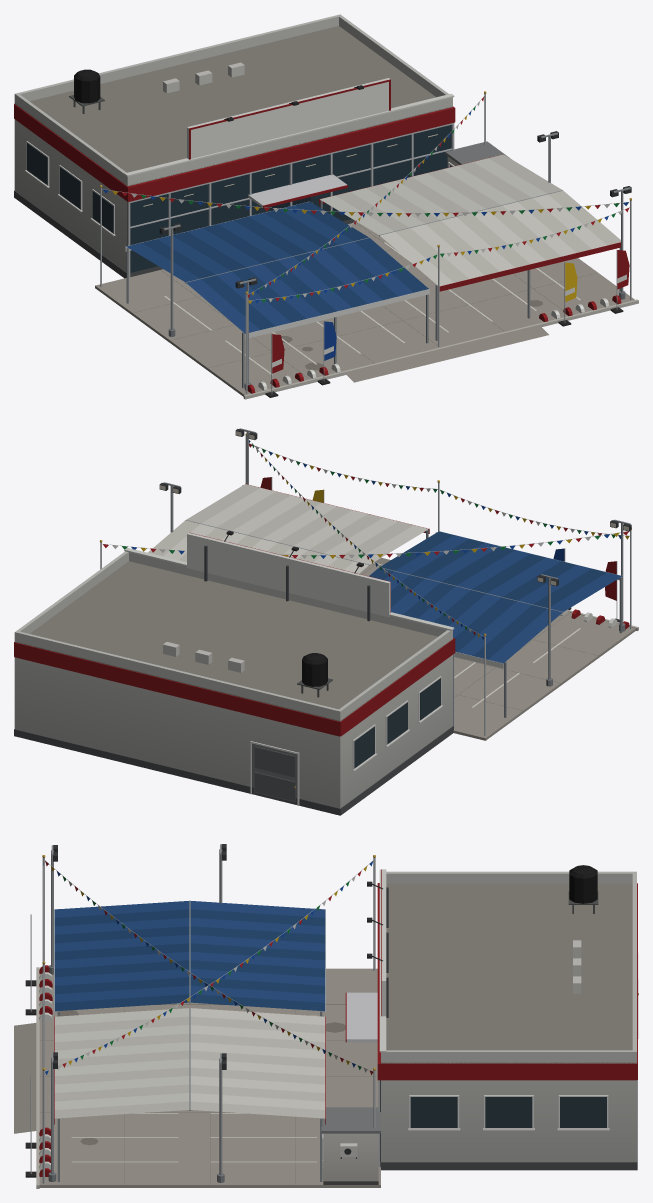
File: ns_carstand.glb
The picture shows the model from 3 angles, top to bottom: view 1: azimuth 30°, elevation 25°; view 2: azimuth 150°, elevation 25°; view 3: azimuth 270°, elevation 25°; orthographic projection. The views are drawn at different scales.
Visible parts, largest first — view 1: ns_carstand; view 2: ns_carstand; view 3: ns_carstand.
Part boxes in pixels (box(x1,y1,x2,y2)): ns_carstand: box(14, 14, 638, 399); ns_carstand: box(14, 428, 638, 815); ns_carstand: box(14, 844, 638, 1188).
Bounding box in the file's own units: 24.54 × 8.42 × 29.3.
